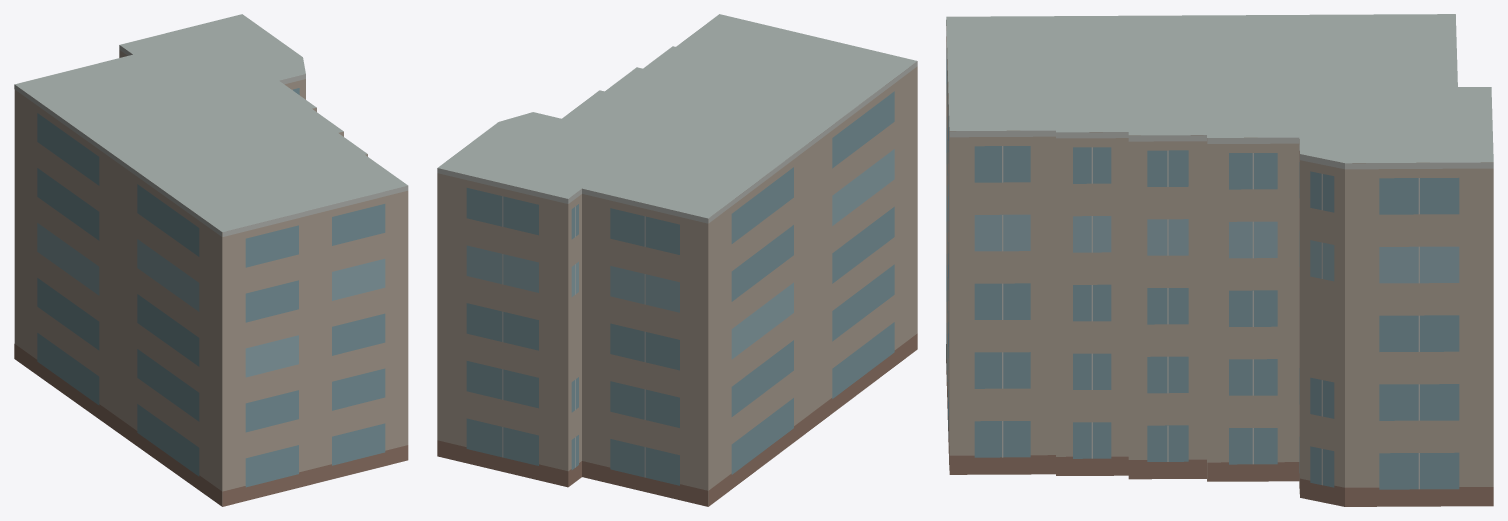
Rendered from survey-upis-32620011.glb.
The picture shows the model from 3 angles, left to right: view 1: azimuth 30°, elevation 25°; view 2: azimuth 150°, elevation 25°; view 3: azimuth 270°, elevation 25°; orthographic projection. The views are drawn at different scales.
Visible parts, largest first — view 1: survey-upis-32620011.tmp; view 2: survey-upis-32620011.tmp; view 3: survey-upis-32620011.tmp.
Boxes of the visible parts, left/top/right/bottom form: survey-upis-32620011.tmp: left=14, top=14, right=408, bottom=506; survey-upis-32620011.tmp: left=437, top=14, right=917, bottom=506; survey-upis-32620011.tmp: left=946, top=14, right=1493, bottom=506.
Bounding box in the file's own units: 12.67 × 13.6 × 19.64.
